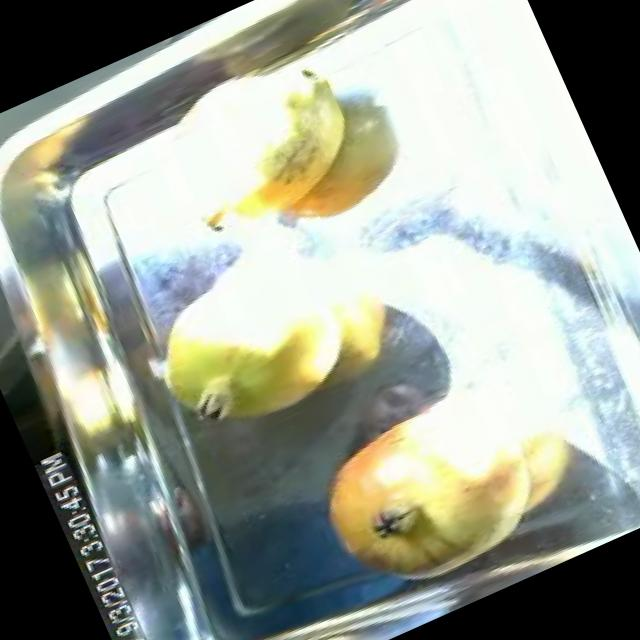fruit: (282, 353, 590, 634), (115, 221, 390, 475), (134, 22, 401, 270)
